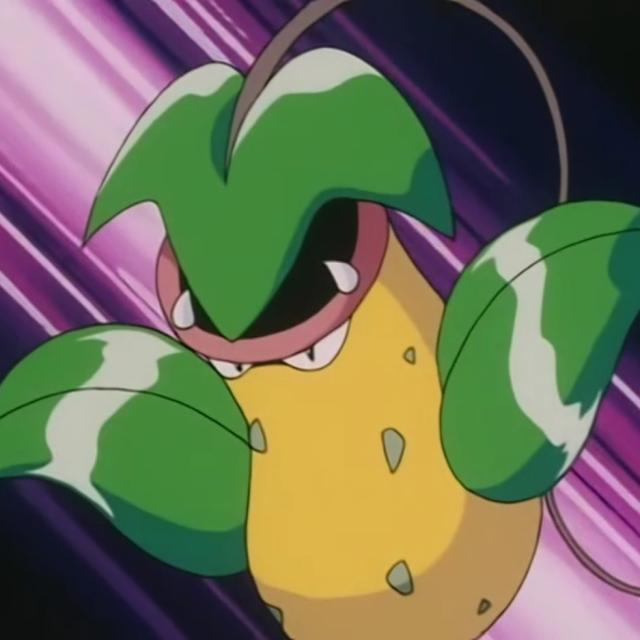Victreebel: (120, 119, 556, 640)
